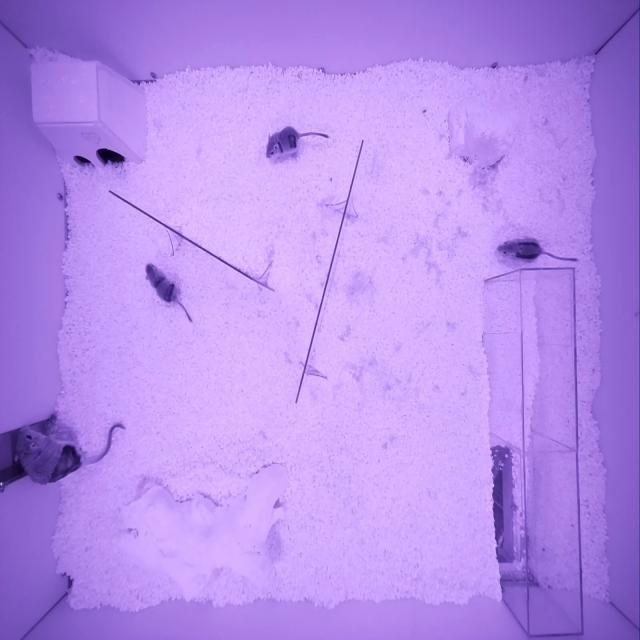adult_back: (15, 430, 85, 484)
pup_h_stripe: (145, 264, 178, 303)
pup_spotted: (266, 126, 299, 158)
pup_v_stripe: (496, 238, 542, 262)
